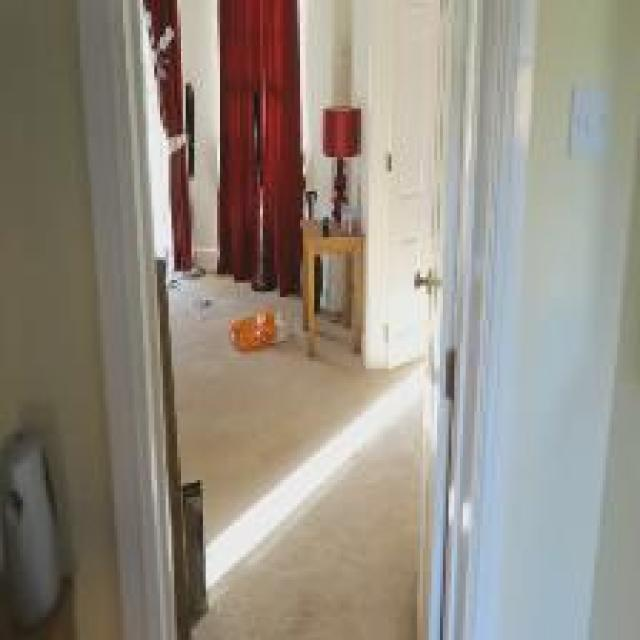other: (210, 1, 300, 272), (136, 1, 208, 260), (212, 300, 290, 348), (308, 98, 368, 157)
